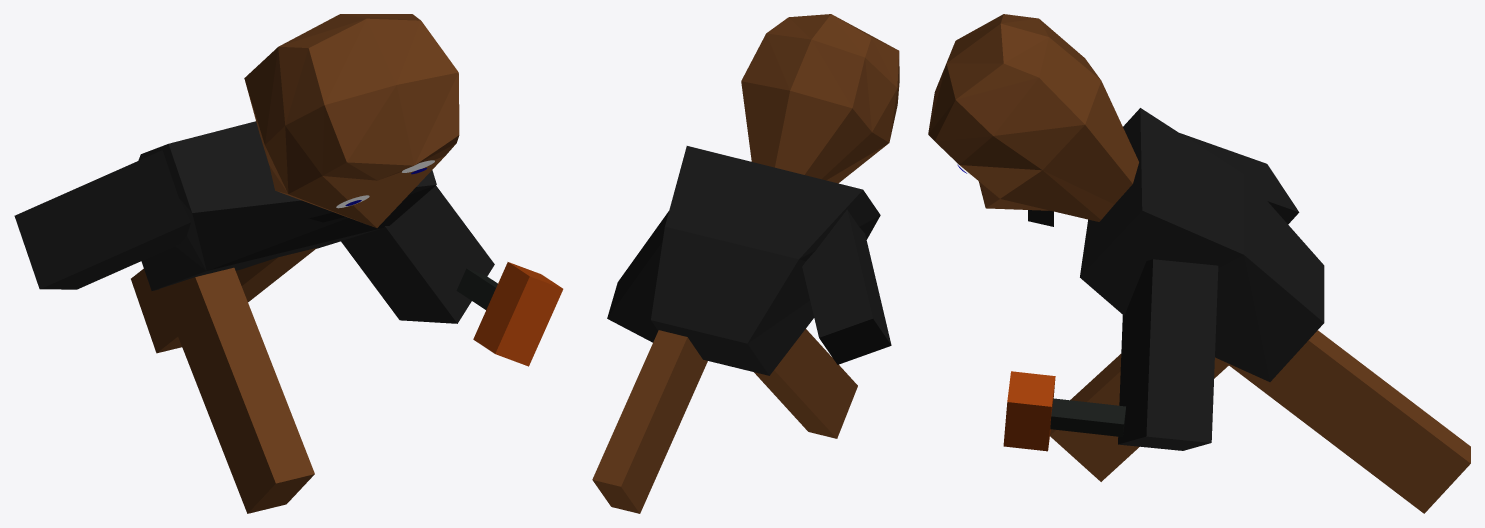
The model's file is servant3f.obj.
The picture shows the model from 3 angles, left to right: view 1: azimuth 30°, elevation 25°; view 2: azimuth 150°, elevation 25°; view 3: azimuth 270°, elevation 25°; orthographic projection. The views are drawn at different scales.
Parts seen in each view (by area): view 1: Cube, Cube.001, Cube.004, Cube.003, Cube.002, Cube.008, Cube.005, Cube.007; view 2: Cube.001, Cube, Cube.005, Cube.003, Cube.004, Cube.002; view 3: Cube.001, Cube, Cube.005, Cube.002, Cube.004, Cube.008, Cube.007, Cube.003.
Boxes of the visible parts, x1,y1,x2,y2 form: Cube: (244, 14, 459, 227); Cube.001: (138, 121, 436, 290); Cube.004: (159, 267, 314, 513); Cube.003: (14, 150, 190, 289); Cube.002: (341, 186, 494, 323); Cube.008: (473, 262, 563, 366); Cube.005: (131, 248, 316, 353); Cube.007: (456, 268, 497, 309); Cube.001: (651, 146, 880, 375); Cube: (741, 14, 899, 183); Cube.005: (592, 330, 707, 513); Cube.003: (802, 209, 891, 364); Cube.004: (754, 329, 857, 438); Cube.002: (607, 211, 668, 342); Cube.001: (1080, 108, 1324, 381); Cube: (928, 14, 1138, 221); Cube.005: (1224, 330, 1470, 513); Cube.002: (1118, 259, 1218, 450); Cube.004: (1050, 354, 1228, 481); Cube.008: (1003, 371, 1055, 451); Cube.007: (1050, 398, 1125, 437); Cube.003: (1180, 133, 1299, 224).
Size of the model in its own units: 3.66 by 4.4 by 4.61.
